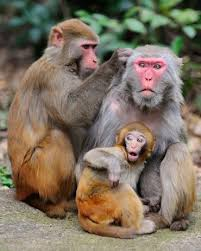monkey: (14, 9, 96, 211), (112, 26, 197, 174), (108, 111, 157, 245)
